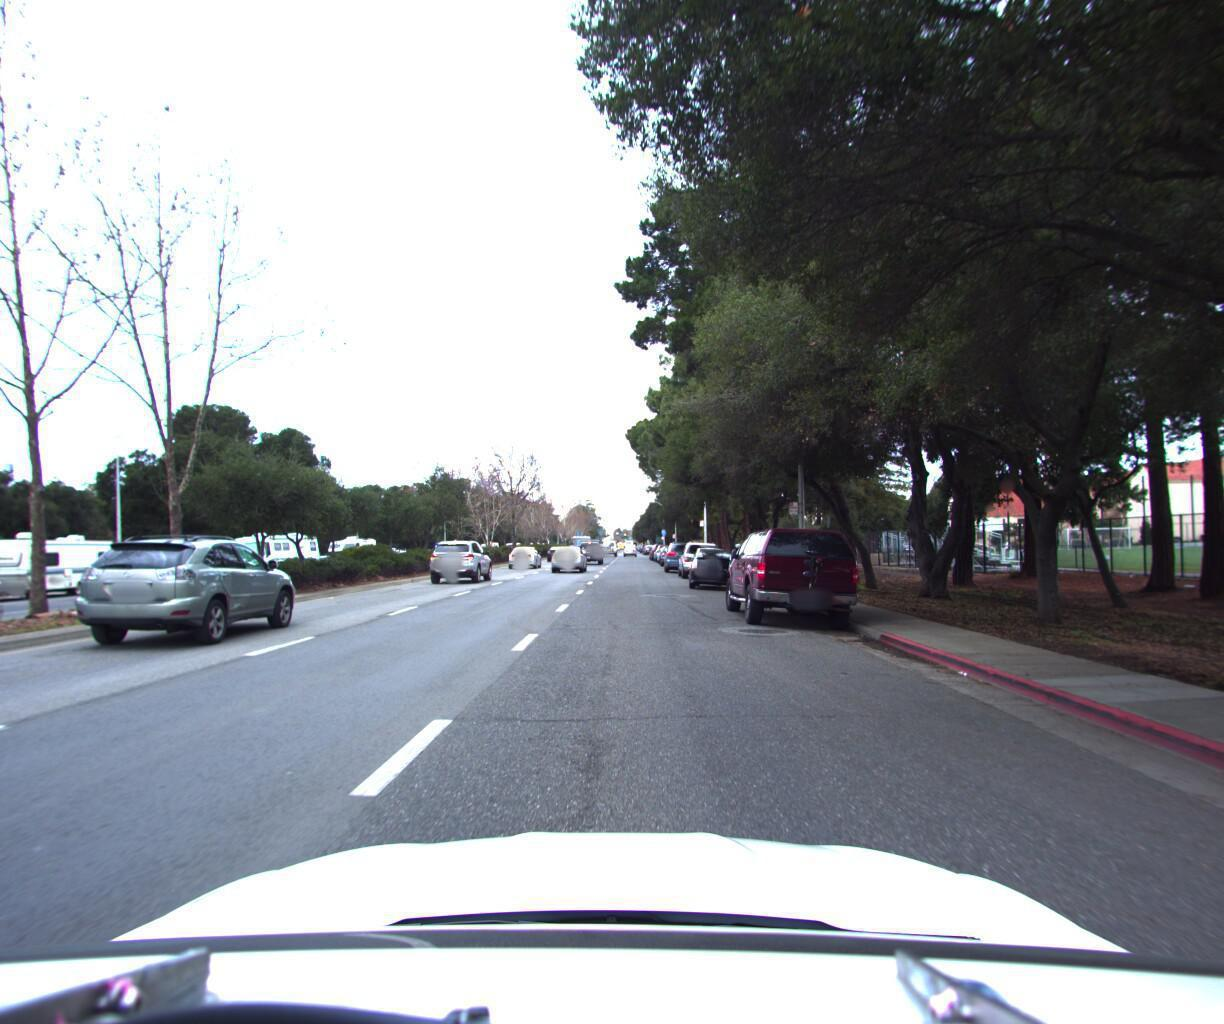car: (68, 522, 309, 648), (719, 519, 874, 629), (425, 535, 497, 580), (687, 540, 737, 587), (675, 533, 723, 574), (685, 539, 734, 579), (661, 534, 702, 569), (547, 540, 589, 568), (509, 543, 542, 567), (575, 533, 604, 560)
other_vehicle: (0, 528, 127, 602), (216, 526, 326, 580), (322, 530, 382, 566)
